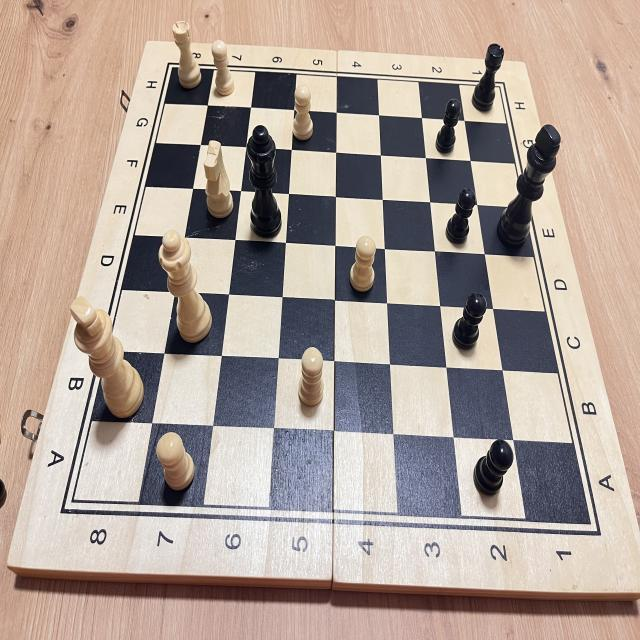black-king: (490, 118, 567, 268)
black-pawn: (471, 431, 518, 505), (451, 288, 492, 361), (442, 183, 481, 253), (431, 93, 466, 162)
black-queen: (238, 115, 296, 247)
black-rook: (467, 38, 509, 116)
white-king: (64, 287, 149, 423)
white-knight: (198, 135, 240, 225)
white-pawn: (150, 421, 201, 500), (290, 340, 332, 413), (346, 228, 383, 297), (288, 80, 318, 145), (210, 35, 240, 99)
white-queen: (149, 225, 218, 345)
white-rook: (168, 18, 205, 96)
